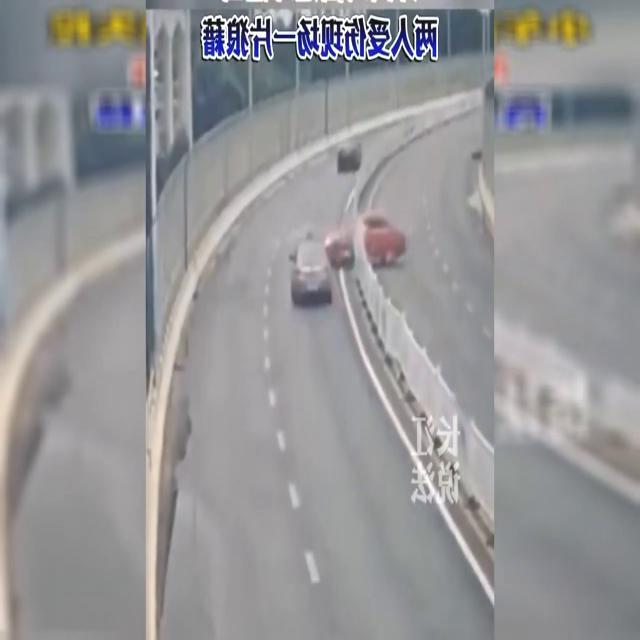accident: (288, 211, 408, 309)
